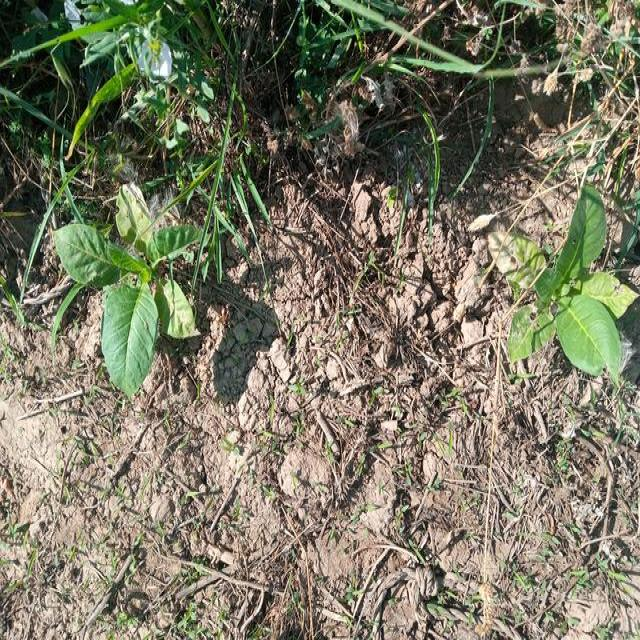crop: (54, 176, 194, 381), (498, 182, 627, 370)
